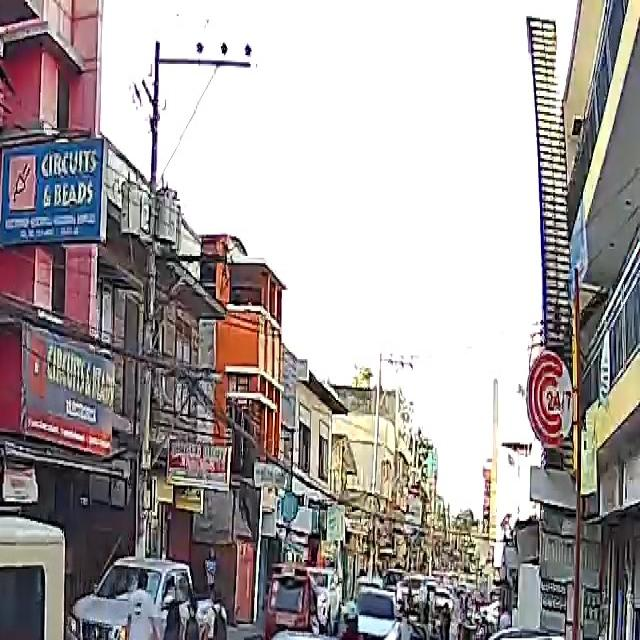car: (71, 556, 197, 640), (261, 570, 321, 640), (340, 588, 403, 640), (470, 626, 638, 640), (196, 631, 384, 640)
